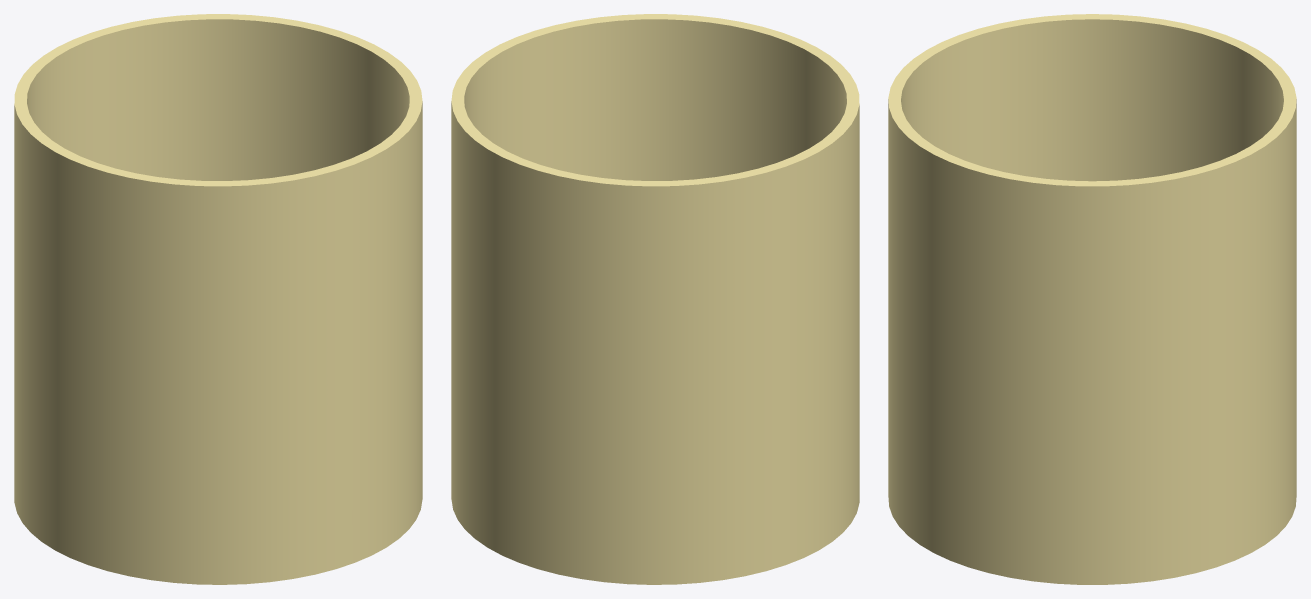
The model's file is adapter_pot_T18_to_6.35mm_brass.glb.
3 views of the same model, side by side, from view 1: azimuth 30°, elevation 25°; view 2: azimuth 150°, elevation 25°; view 3: azimuth 270°, elevation 25° (orthographic).
Visible parts, largest first — view 1: Solid1; view 2: Solid1; view 3: Solid1.
Part boxes in pixels (x1=…): Solid1: x1=14, y1=14, x2=422, y2=584; Solid1: x1=451, y1=14, x2=859, y2=584; Solid1: x1=888, y1=14, x2=1296, y2=584.
Size of the model in its own units: 0.00649 by 0.007 by 0.0065.
